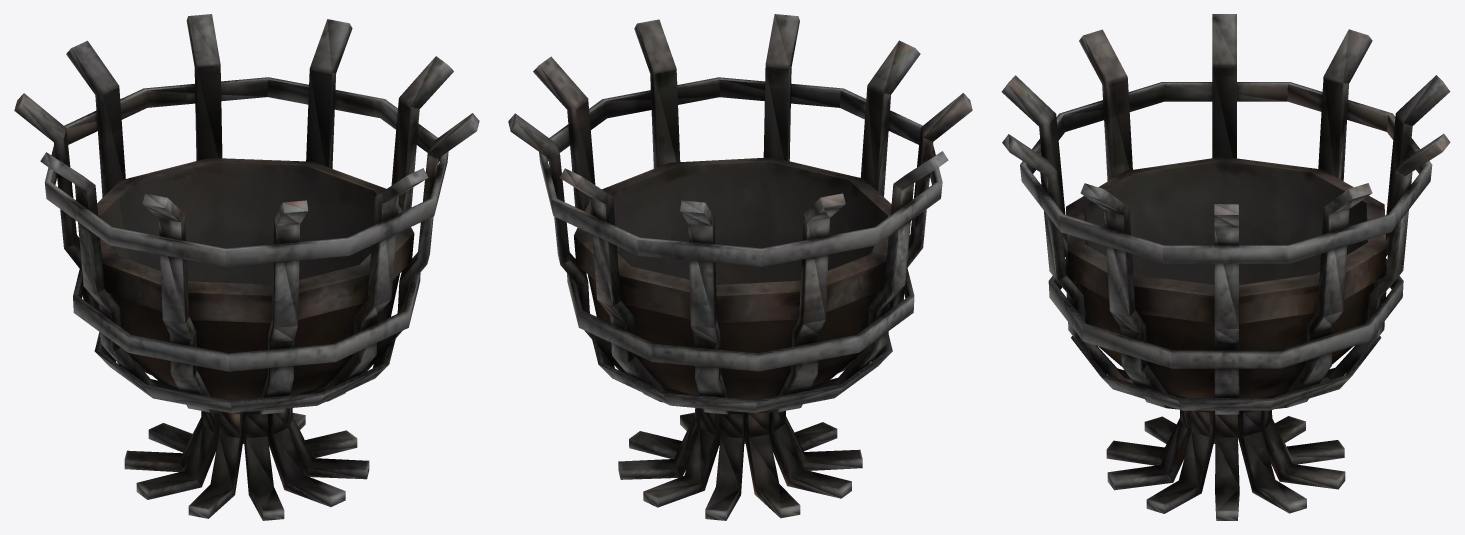
Rendered from brazier.glb.
The picture shows the model from 3 angles, left to right: view 1: azimuth 30°, elevation 25°; view 2: azimuth 150°, elevation 25°; view 3: azimuth 270°, elevation 25°; orthographic projection.
Parts seen in each view (by area): view 1: brazier; view 2: brazier; view 3: brazier.
Part boxes in pixels (bbox=[...]): brazier: bbox=[14, 14, 479, 520]; brazier: bbox=[508, 14, 972, 520]; brazier: bbox=[1001, 14, 1450, 520].
Size of the model in its own units: 2.1 by 1.8 by 2.03.
1 material, 1 textured.
